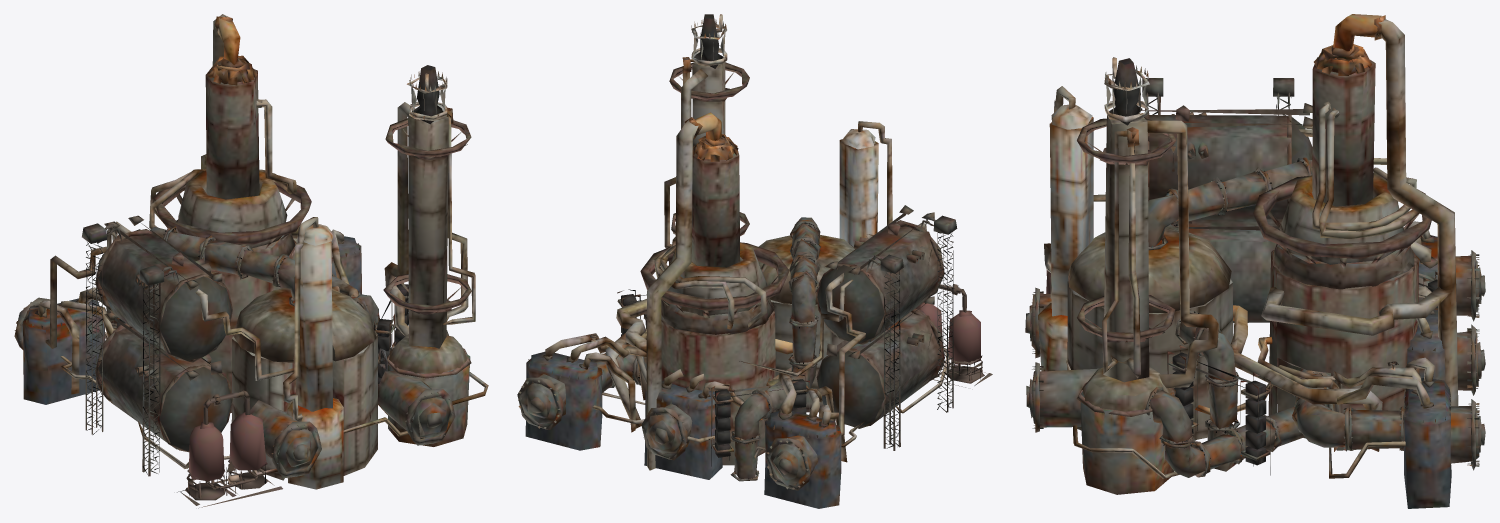
Rendered from oil-refinery.glb.
3 renders of one model, left to right at view 1: azimuth 30°, elevation 25°; view 2: azimuth 150°, elevation 25°; view 3: azimuth 270°, elevation 25°, orthographic. The views are drawn at different scales.
Parts seen in each view (by area): view 1: body; view 2: body; view 3: body.
Part boxes in pixels (x1,y1,x2,y2): body: (14, 14, 488, 508); body: (517, 14, 992, 508); body: (1025, 14, 1485, 508).
Size of the model in its own units: 4.83 by 4.99 by 5.02.
1 material, 1 textured.
